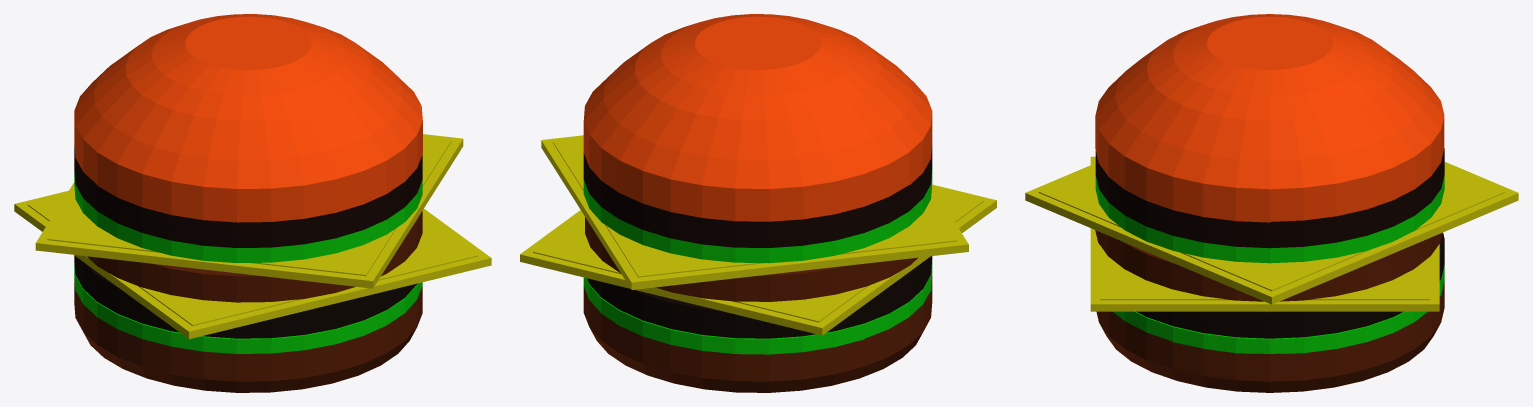
Rendered from burger.obj.
3 views of the same model, side by side, from view 1: azimuth 30°, elevation 25°; view 2: azimuth 150°, elevation 25°; view 3: azimuth 270°, elevation 25° (orthographic).
Parts seen in each view (by area): view 1: TopBun_Cylinder.008, BottomBun_Cylinder, TopCheese_Plane.001, BottomCheese_Plane, TopMeat_Cylinder.002, MiddleBun_Cylinder.005, Meat_Cylinder.004, Salad_Cylinder.001, Salad.002_Cylinder.006; view 2: TopBun_Cylinder.008, BottomBun_Cylinder, TopCheese_Plane.001, BottomCheese_Plane, TopMeat_Cylinder.002, Meat_Cylinder.004, MiddleBun_Cylinder.005, Salad_Cylinder.001, Salad.002_Cylinder.006; view 3: TopBun_Cylinder.008, TopCheese_Plane.001, BottomBun_Cylinder, BottomCheese_Plane, TopMeat_Cylinder.002, MiddleBun_Cylinder.005, Meat_Cylinder.004, Salad.002_Cylinder.006, Salad_Cylinder.001.
Boxes of the visible parts, <box> form: TopBun_Cylinder.008: <box>74,14,422,222</box>; BottomBun_Cylinder: <box>74,279,422,392</box>; TopCheese_Plane.001: <box>35,134,463,288</box>; BottomCheese_Plane: <box>14,191,491,339</box>; TopMeat_Cylinder.002: <box>74,145,422,247</box>; MiddleBun_Cylinder.005: <box>87,211,422,302</box>; Meat_Cylinder.004: <box>74,255,416,338</box>; Salad_Cylinder.001: <box>74,263,422,353</box>; Salad.002_Cylinder.006: <box>74,172,422,262</box>; TopBun_Cylinder.008: <box>583,14,932,221</box>; BottomBun_Cylinder: <box>583,276,932,392</box>; TopCheese_Plane.001: <box>541,135,968,289</box>; BottomCheese_Plane: <box>520,184,996,335</box>; TopMeat_Cylinder.002: <box>583,145,932,247</box>; Meat_Cylinder.004: <box>587,256,932,338</box>; MiddleBun_Cylinder.005: <box>585,217,917,301</box>; Salad_Cylinder.001: <box>583,261,932,354</box>; Salad.002_Cylinder.006: <box>583,170,932,263</box>; TopBun_Cylinder.008: <box>1095,14,1444,222</box>; TopCheese_Plane.001: <box>1025,162,1518,304</box>; BottomBun_Cylinder: <box>1096,281,1444,392</box>; BottomCheese_Plane: <box>1090,156,1439,311</box>; TopMeat_Cylinder.002: <box>1095,148,1444,248</box>; MiddleBun_Cylinder.005: <box>1095,230,1442,301</box>; Meat_Cylinder.004: <box>1136,233,1444,338</box>; Salad.002_Cylinder.006: <box>1095,175,1444,263</box>; Salad_Cylinder.001: <box>1113,266,1444,353</box>.
Bounding box in the file's own units: 89.1 × 55.59 × 89.1.
